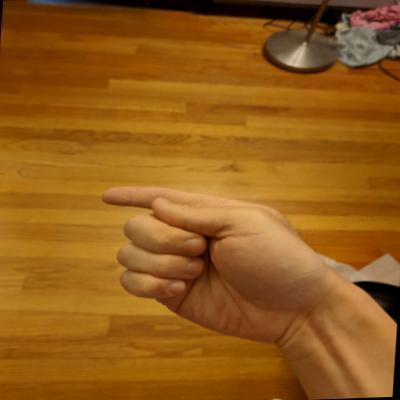hand: (90, 177, 348, 357)
